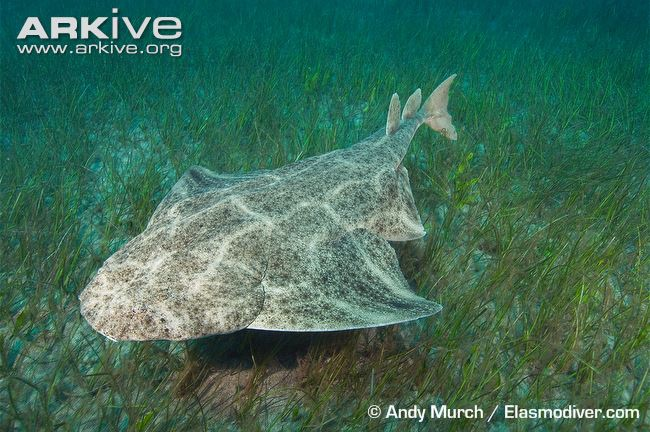shark: (61, 64, 495, 354)
